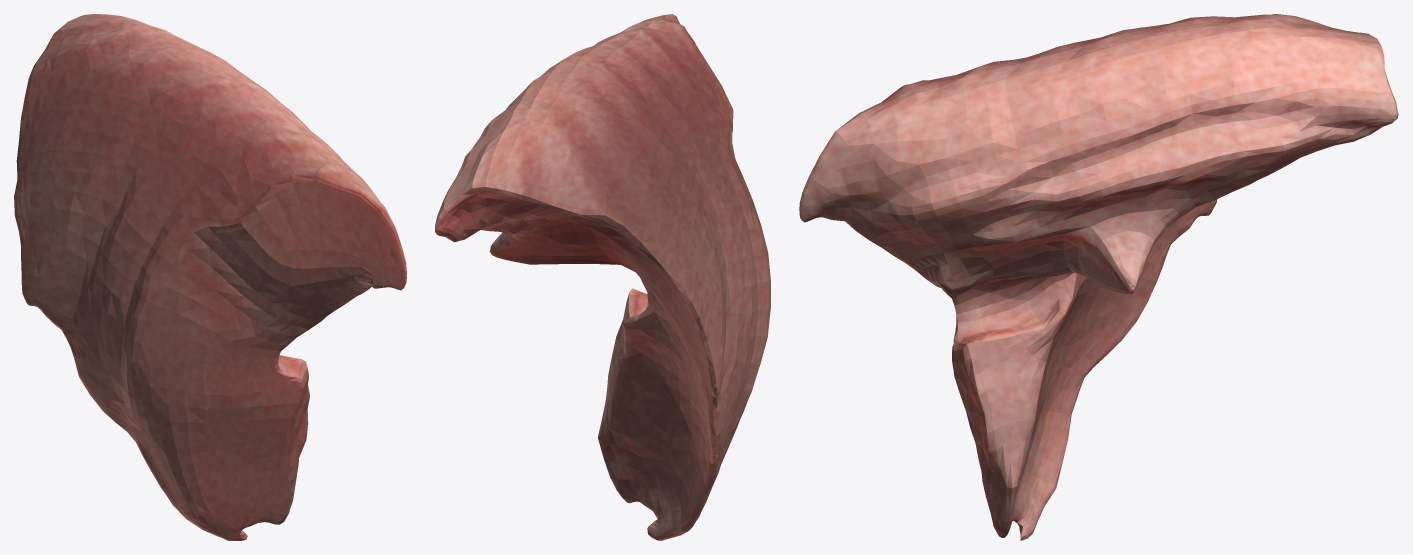
Rendered from R_lung_caudal_lobe_LOW.glb.
The picture shows the model from 3 angles, left to right: view 1: azimuth 30°, elevation 25°; view 2: azimuth 150°, elevation 25°; view 3: azimuth 270°, elevation 25°; orthographic projection. The views are drawn at different scales.
Parts seen in each view (by area): view 1: R_lung_caudal_lobe_LOW; view 2: R_lung_caudal_lobe_LOW; view 3: R_lung_caudal_lobe_LOW.
Boxes of the visible parts, left/top/right/bottom form: R_lung_caudal_lobe_LOW: left=14, top=14, right=406, bottom=540; R_lung_caudal_lobe_LOW: left=435, top=14, right=770, bottom=540; R_lung_caudal_lobe_LOW: left=799, top=14, right=1398, bottom=540.
Bounding box in the file's own units: 0.00264 × 0.00472 × 0.00497.
1 material, 1 textured.
